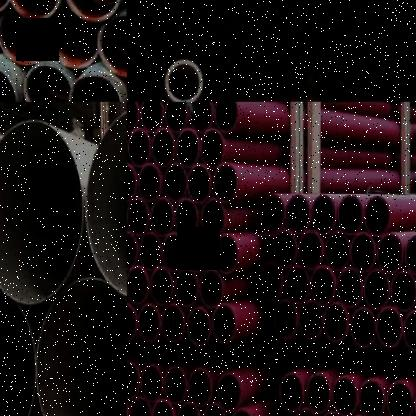pipe: (0, 116, 88, 308), (34, 277, 127, 416), (83, 104, 127, 302), (0, 279, 36, 416), (48, 9, 99, 69), (0, 7, 49, 67), (96, 15, 127, 78), (22, 64, 72, 102), (164, 58, 204, 102), (68, 75, 122, 102), (64, 0, 121, 22), (376, 232, 404, 274), (5, 0, 60, 21), (376, 306, 403, 348), (338, 266, 364, 309), (390, 270, 416, 313), (350, 306, 376, 349), (323, 302, 350, 343), (350, 232, 376, 274), (174, 266, 200, 308), (310, 266, 337, 306), (285, 263, 310, 306), (311, 194, 337, 235), (338, 195, 364, 236), (272, 228, 298, 269), (298, 300, 324, 341), (186, 306, 212, 347), (325, 230, 350, 272), (306, 372, 331, 414), (364, 196, 390, 236), (214, 234, 240, 274), (364, 270, 390, 310), (332, 376, 358, 416), (200, 128, 225, 169), (286, 194, 311, 235), (187, 164, 212, 204), (200, 198, 225, 238), (298, 230, 323, 270), (198, 268, 223, 308), (211, 304, 236, 344), (152, 127, 176, 168), (176, 128, 200, 169), (162, 232, 186, 273), (162, 303, 186, 344), (188, 367, 212, 408), (217, 373, 242, 412), (360, 379, 386, 416), (127, 128, 151, 168), (214, 162, 238, 202), (138, 163, 162, 203), (262, 193, 286, 233), (150, 197, 174, 237), (175, 198, 199, 238), (186, 233, 210, 273), (150, 266, 174, 306), (280, 373, 304, 413), (387, 381, 414, 416), (126, 197, 150, 236), (138, 232, 162, 271), (258, 262, 282, 301), (274, 299, 298, 338), (164, 366, 188, 405), (164, 162, 187, 202), (138, 303, 161, 343), (140, 364, 164, 402), (127, 266, 148, 304), (188, 102, 214, 132), (214, 102, 239, 133), (164, 102, 188, 133), (140, 102, 164, 133), (0, 64, 16, 102), (402, 309, 416, 352), (126, 360, 140, 398), (126, 162, 138, 202), (126, 230, 138, 270), (126, 302, 138, 342), (405, 234, 416, 276), (151, 397, 175, 416), (130, 396, 152, 416), (126, 102, 140, 133), (176, 401, 200, 416), (202, 403, 228, 416), (292, 406, 318, 416), (230, 408, 256, 416), (318, 409, 345, 416), (344, 414, 372, 416)
